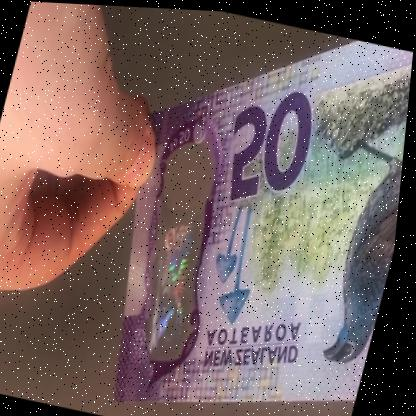50B: (137, 159, 228, 358)
